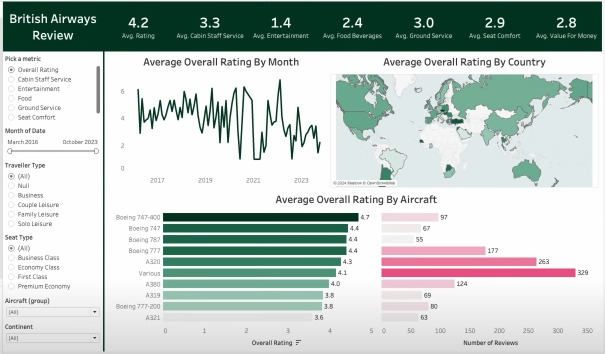

Layout of this report page (visuals, bound fields, positions):
{"tool":"powerbi","page":{"name":"Page 1","canvas":[1280,720],"ordinal":0},"visuals":[{"type":"textbox","box":[0,0,1280,101.1],"z":0},{"type":"lineChart","fields":{"Y":["Avg(ba_reviews.Rating)"],"Category":["ba_reviews.Date.Variation.Date Hierarchy.Year","ba_reviews.Date.Variation.Date Hierarchy.Month"]},"box":[191.9,122.1,588.3,258.5],"z":1000},{"type":"filledMap","fields":{"Category":["Countries.Country"]},"box":[797.8,145.6,482.2,234.4],"z":2000},{"type":"barChart","fields":{"Y":["Avg(ba_reviews.Rating)"],"Category":["ba_reviews.Aircraft"]},"box":[191.9,421.8,588.3,298.1],"z":3000},{"type":"barChart","fields":{"Y":["CountNonNull(ba_reviews.Rating)"],"Category":["ba_reviews.Aircraft"]},"box":[780.2,421.7,499.8,298.5],"z":4000},{"type":"shape","box":[179.8,75.8,12.4,644.5],"z":5000},{"type":"card","fields":{"Values":["Avg(ba_reviews.Rating)"]},"box":[135.6,0,127.9,85.7],"z":6000},{"type":"card","fields":{"Values":["Avg(ba_reviews.Ground_Service)"]},"box":[404.2,0,168.8,85.7],"z":7000},{"type":"card","fields":{"Values":["Avg(ba_reviews.Entertainment)"]},"box":[573,1.3,163.7,85.7],"z":8000},{"type":"card","fields":{"Values":["Avg(ba_reviews.Food_Beverages)"]},"box":[736.7,0,181.6,85.7],"z":9000},{"type":"card","fields":{"Values":["Avg(ba_reviews.Cabin_Staff_Service)"]},"box":[918.3,0,180.3,85.7],"z":10000},{"type":"card","fields":{"Values":["Avg(ba_reviews.Value_For_Money)"]},"box":[1098.6,0,181.6,85.7],"z":11000},{"type":"card","fields":{"Values":["Sum(ba_reviews.Seat_Comfort)"]},"box":[263.5,0,140.7,85.7],"z":12000},{"type":"textbox","box":[0,15.3,152.2,71.6],"z":13000},{"type":"slicer","fields":{"Values":["ba_reviews.Traveller_Type"]},"box":[0,101.1,185.6,146.7],"z":14000},{"type":"slicer","fields":{"Values":["ba_reviews.Seat_Type"]},"box":[0,274.4,185.6,147.8],"z":15000},{"type":"slicer","fields":{"Values":["ba_reviews.Aircraft"]},"box":[0,551.7,181.1,73.3],"z":16000},{"type":"slicer","fields":{"Values":["Countries.Continent"]},"box":[0,651.1,181.1,68.9],"z":17000},{"type":"slicer","fields":{"Values":["ba_reviews.Date.Variation.Date Hierarchy.Year","ba_reviews.Date.Variation.Date Hierarchy.Month"]},"box":[0,453.3,185.6,67.8],"z":18000},{"type":"textbox","box":[333.3,101.1,351.1,44.4],"z":18001},{"type":"textbox","box":[877.8,101.1,351.1,44.4],"z":18002},{"type":"textbox","box":[604.4,381.1,351.1,44.4],"z":18003}]}

Visuals, with their boxes on the page's 1280x720 design canvas (x1, y1, x2, y2). These are canvas units, not pixel positions in the 605x354 screenshot, which may show the page scaled, cropped or inside an application window:
textbox: (0, 0, 1280, 101)
lineChart - Avg(ba_reviews.Rating) x ba_reviews.Date.Variation.Date Hierarchy.Year: (192, 122, 780, 381)
filledMap - Countries.Country: (798, 146, 1280, 380)
barChart - Avg(ba_reviews.Rating) x ba_reviews.Aircraft: (192, 422, 780, 720)
barChart - CountNonNull(ba_reviews.Rating) x ba_reviews.Aircraft: (780, 422, 1280, 720)
shape: (180, 76, 192, 720)
card - Avg(ba_reviews.Rating): (136, 0, 264, 86)
card - Avg(ba_reviews.Ground_Service): (404, 0, 573, 86)
card - Avg(ba_reviews.Entertainment): (573, 1, 737, 87)
card - Avg(ba_reviews.Food_Beverages): (737, 0, 918, 86)
card - Avg(ba_reviews.Cabin_Staff_Service): (918, 0, 1099, 86)
card - Avg(ba_reviews.Value_For_Money): (1099, 0, 1280, 86)
card - Sum(ba_reviews.Seat_Comfort): (264, 0, 404, 86)
textbox: (0, 15, 152, 87)
slicer - ba_reviews.Traveller_Type: (0, 101, 186, 248)
slicer - ba_reviews.Seat_Type: (0, 274, 186, 422)
slicer - ba_reviews.Aircraft: (0, 552, 181, 625)
slicer - Countries.Continent: (0, 651, 181, 720)
slicer - ba_reviews.Date.Variation.Date Hierarchy.Year x ba_reviews.Date.Variation.Date Hierarchy.Month: (0, 453, 186, 521)
textbox: (333, 101, 684, 146)
textbox: (878, 101, 1229, 146)
textbox: (604, 381, 956, 426)
